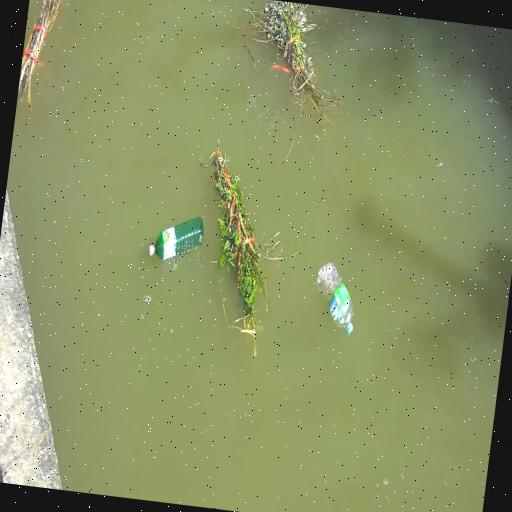plastic: (310, 255, 364, 338), (147, 207, 206, 272)
twig: (184, 136, 286, 346), (239, 0, 341, 121), (17, 0, 87, 108)
